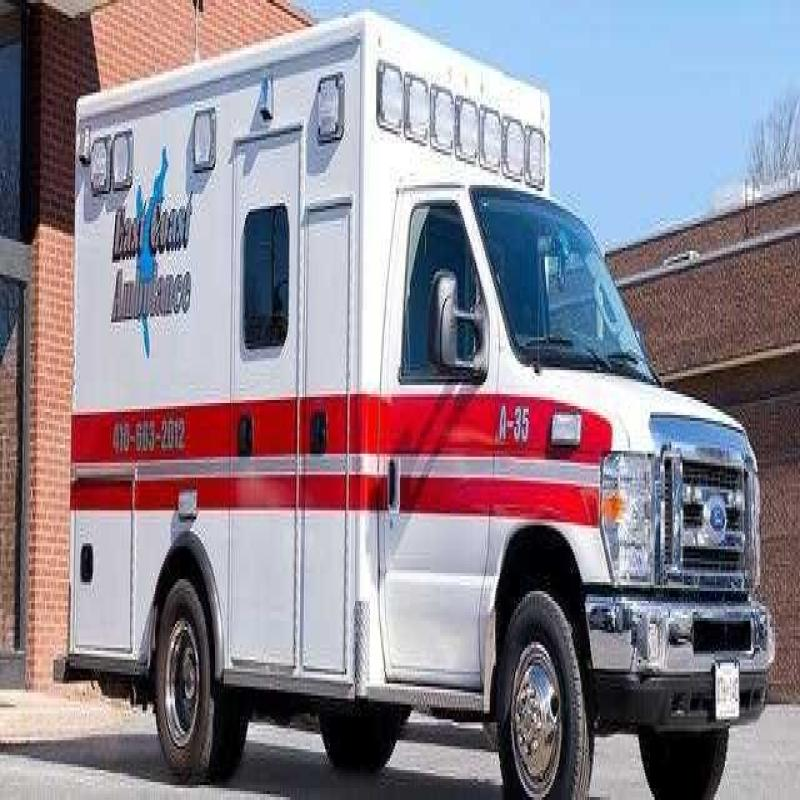AmbulanceSiren: (376, 45, 552, 203)
